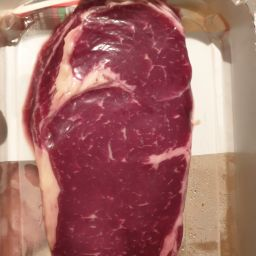Beef: (17, 2, 201, 256), (36, 2, 200, 238), (6, 60, 212, 180), (21, 150, 200, 256)
